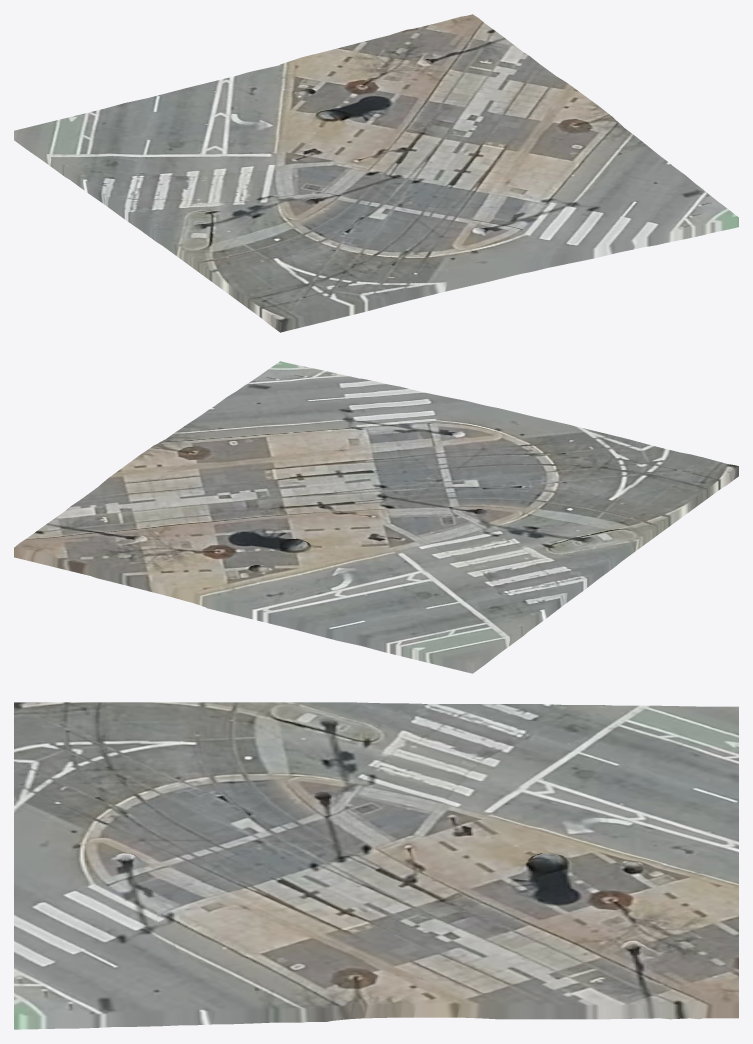
Rendered from z20-167791-405224-h0-yup-uvflip-v3-world.glb.
3 renders of one model, top to bottom at view 1: azimuth 30°, elevation 25°; view 2: azimuth 150°, elevation 25°; view 3: azimuth 270°, elevation 25°, orthographic. The views are drawn at different scales.
Size of the model in its own units: 30.16 by 1.4 by 30.32.
1 material, 1 textured.
